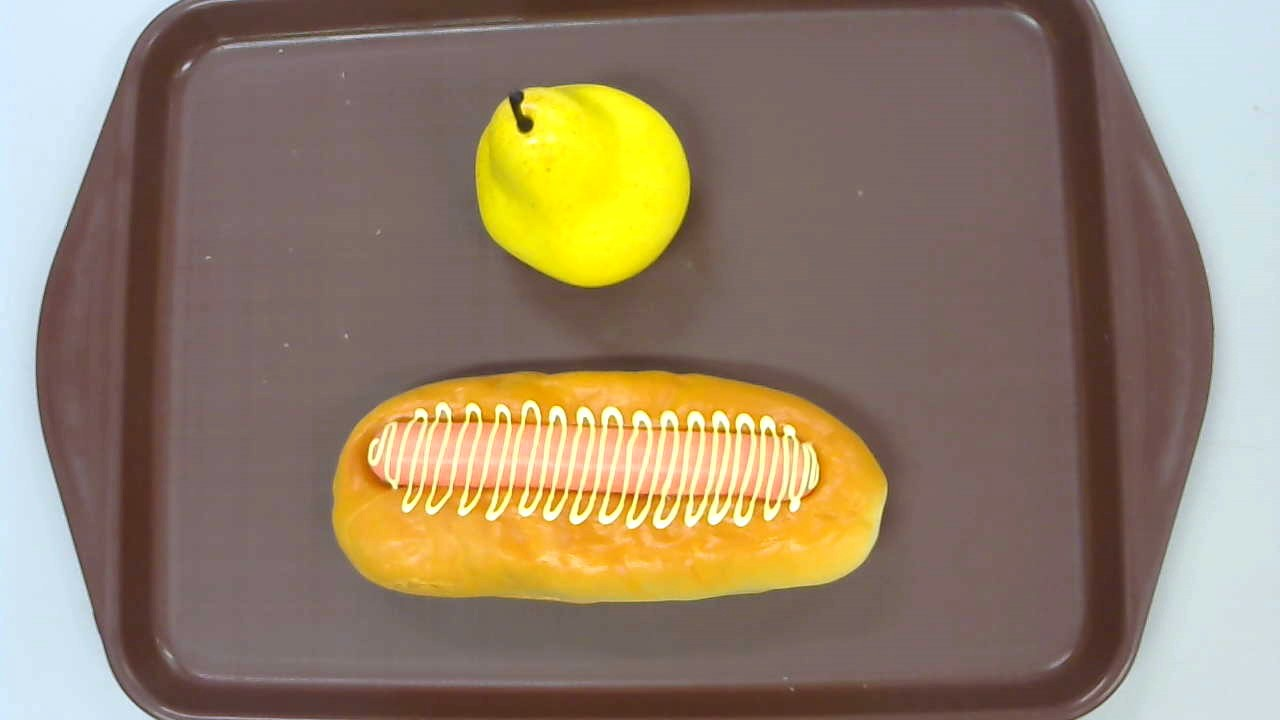hot dog: (331, 370, 889, 603)
yellow pear: (475, 84, 692, 289)
